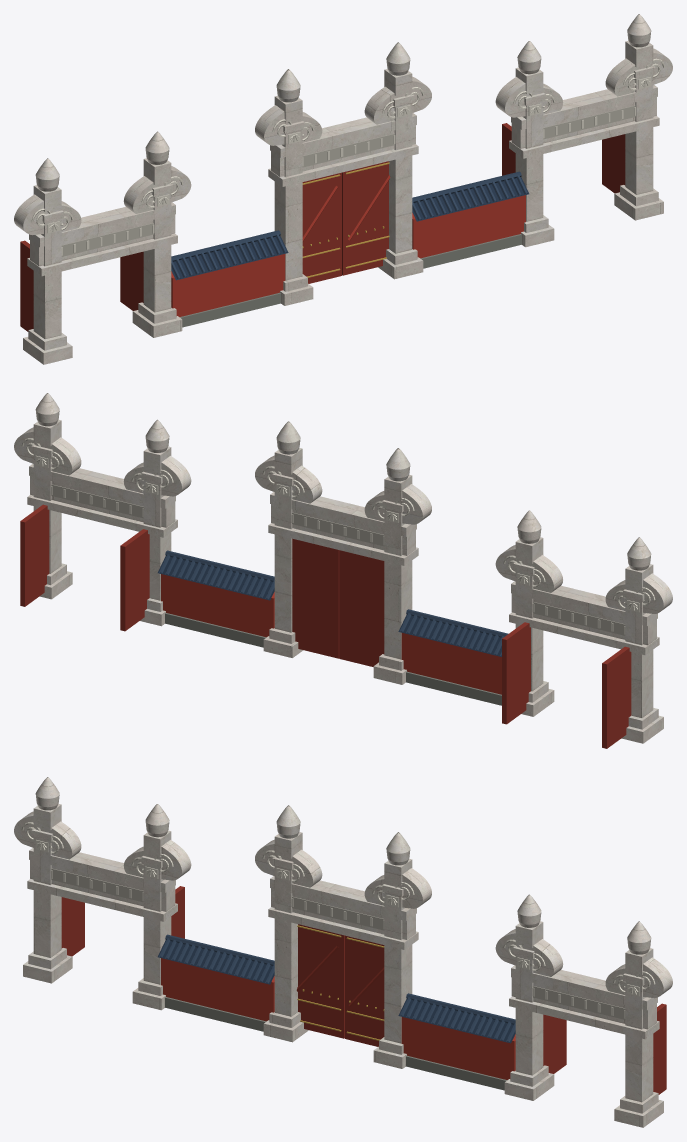
Rendered from mound-outer-gate-detail.glb.
3 renders of one model, top to bottom at view 1: azimuth 30°, elevation 25°; view 2: azimuth 150°, elevation 25°; view 3: azimuth 330°, elevation 25°, orthographic.
Visible parts, largest first — view 1: mound-outer-gate stone.001, mound-outer-gate redDark.001, mound-outer-gate red.001, mound-outer-gate blueTile.001, mound-outer-gate recess.001, mound-outer-gate relief.001, mound-outer-gate blueRoof.001, mound-outer-gate base.001, mound-outer-gate metal.001; view 2: mound-outer-gate stone.001, mound-outer-gate redDark.001, mound-outer-gate red.001, mound-outer-gate blueTile.001, mound-outer-gate recess.001, mound-outer-gate relief.001, mound-outer-gate blueRoof.001, mound-outer-gate base.001; view 3: mound-outer-gate stone.001, mound-outer-gate redDark.001, mound-outer-gate red.001, mound-outer-gate blueTile.001, mound-outer-gate recess.001, mound-outer-gate relief.001, mound-outer-gate blueRoof.001, mound-outer-gate base.001, mound-outer-gate metal.001.
Part boxes in pixels (bbox=[...]): mound-outer-gate stone.001: bbox=[14, 14, 672, 364]; mound-outer-gate redDark.001: bbox=[20, 123, 625, 331]; mound-outer-gate red.001: bbox=[171, 175, 525, 316]; mound-outer-gate blueTile.001: bbox=[171, 171, 527, 278]; mound-outer-gate recess.001: bbox=[61, 105, 635, 256]; mound-outer-gate relief.001: bbox=[31, 58, 664, 255]; mound-outer-gate blueRoof.001: bbox=[171, 177, 529, 280]; mound-outer-gate base.001: bbox=[179, 234, 521, 327]; mound-outer-gate metal.001: bbox=[302, 162, 389, 277]; mound-outer-gate stone.001: bbox=[14, 393, 672, 743]; mound-outer-gate redDark.001: bbox=[20, 504, 631, 748]; mound-outer-gate red.001: bbox=[161, 574, 501, 694]; mound-outer-gate blueTile.001: bbox=[159, 550, 508, 655]; mound-outer-gate recess.001: bbox=[51, 484, 625, 635]; mound-outer-gate relief.001: bbox=[21, 438, 655, 634]; mound-outer-gate blueRoof.001: bbox=[157, 556, 501, 656]; mound-outer-gate base.001: bbox=[165, 613, 501, 705]; mound-outer-gate stone.001: bbox=[14, 777, 672, 1127]; mound-outer-gate redDark.001: bbox=[61, 886, 666, 1094]; mound-outer-gate red.001: bbox=[161, 945, 515, 1079]; mound-outer-gate blueTile.001: bbox=[159, 934, 515, 1041]; mound-outer-gate recess.001: bbox=[51, 868, 625, 1019]; mound-outer-gate relief.001: bbox=[21, 822, 655, 1018]; mound-outer-gate blueRoof.001: bbox=[157, 940, 515, 1043]; mound-outer-gate base.001: bbox=[165, 997, 507, 1090]; mound-outer-gate metal.001: bbox=[297, 925, 384, 1040].
Size of the model in its own units: 0.1624 by 0.0539 by 0.0175.
9 materials, 1 textured.
